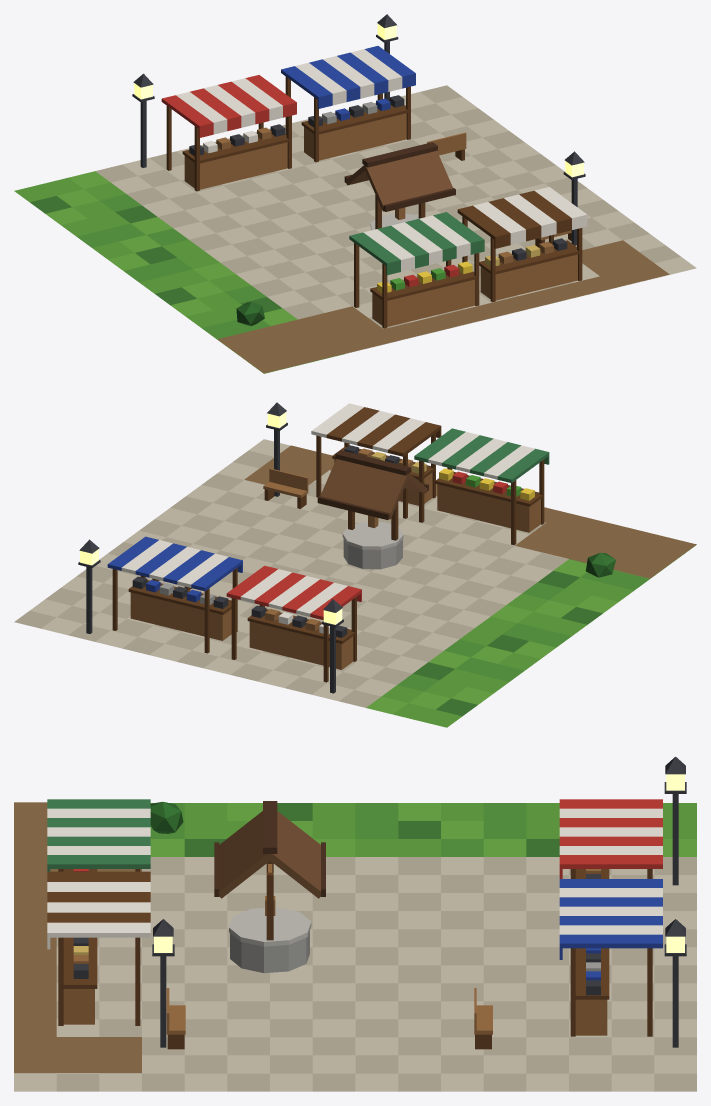
Rendered from chunk_5_11.glb.
The picture shows the model from 3 angles, top to bottom: view 1: azimuth 30°, elevation 25°; view 2: azimuth 150°, elevation 25°; view 3: azimuth 270°, elevation 25°; orthographic projection. The views are drawn at different scales.
Visible parts, largest first — view 1: chunk_5_11; view 2: chunk_5_11; view 3: chunk_5_11.
Boxes of the visible parts, bbox=[...] form: chunk_5_11: bbox=[14, 14, 696, 373]; chunk_5_11: bbox=[14, 402, 696, 727]; chunk_5_11: bbox=[14, 756, 696, 1091].
Bounding box in the file's own units: 16 × 3.52 × 16.
